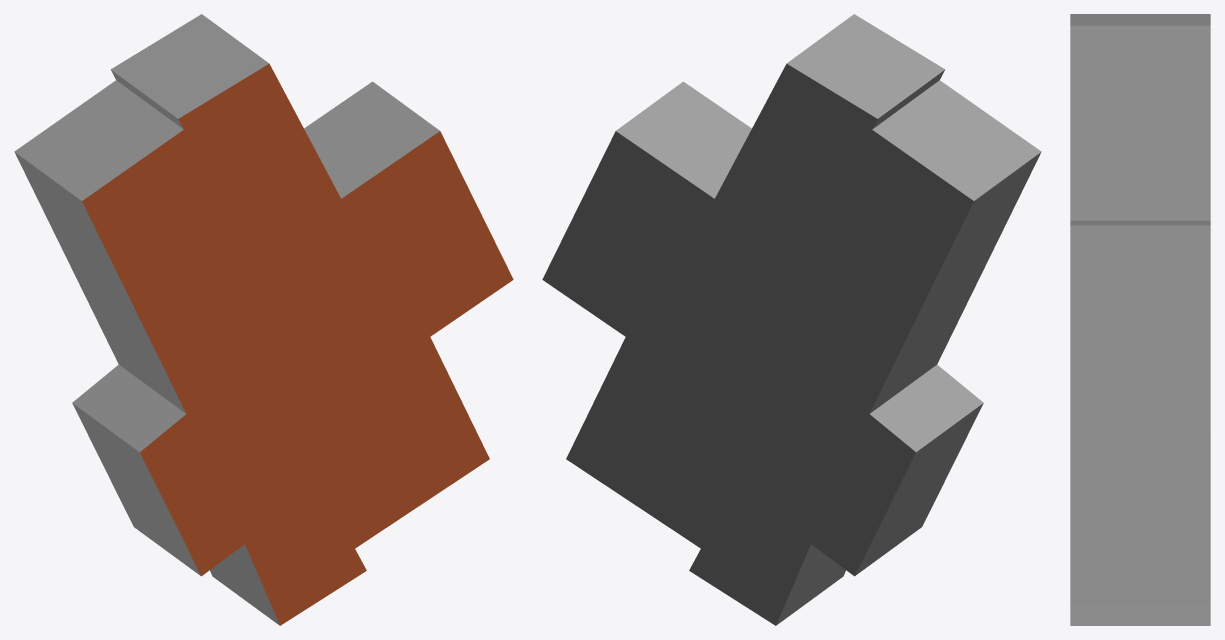
Rendered from construction_2747_assumed_A_Casa_h6m.obj.
The picture shows the model from 3 angles, left to right: view 1: azimuth 30°, elevation 25°; view 2: azimuth 150°, elevation 25°; view 3: azimuth 270°, elevation 25°; orthographic projection. The views are drawn at different scales.
Visible parts, largest first — view 1: construction_2747_assumed_A_Casa; view 2: construction_2747_assumed_A_Casa; view 3: construction_2747_assumed_A_Casa.
Part boxes in pixels (bbox=[...]): construction_2747_assumed_A_Casa: bbox=[14, 14, 513, 625]; construction_2747_assumed_A_Casa: bbox=[542, 14, 1041, 625]; construction_2747_assumed_A_Casa: bbox=[1070, 14, 1210, 625].
Bounding box in the file's own units: 22.1 × 27.64 × 6.
